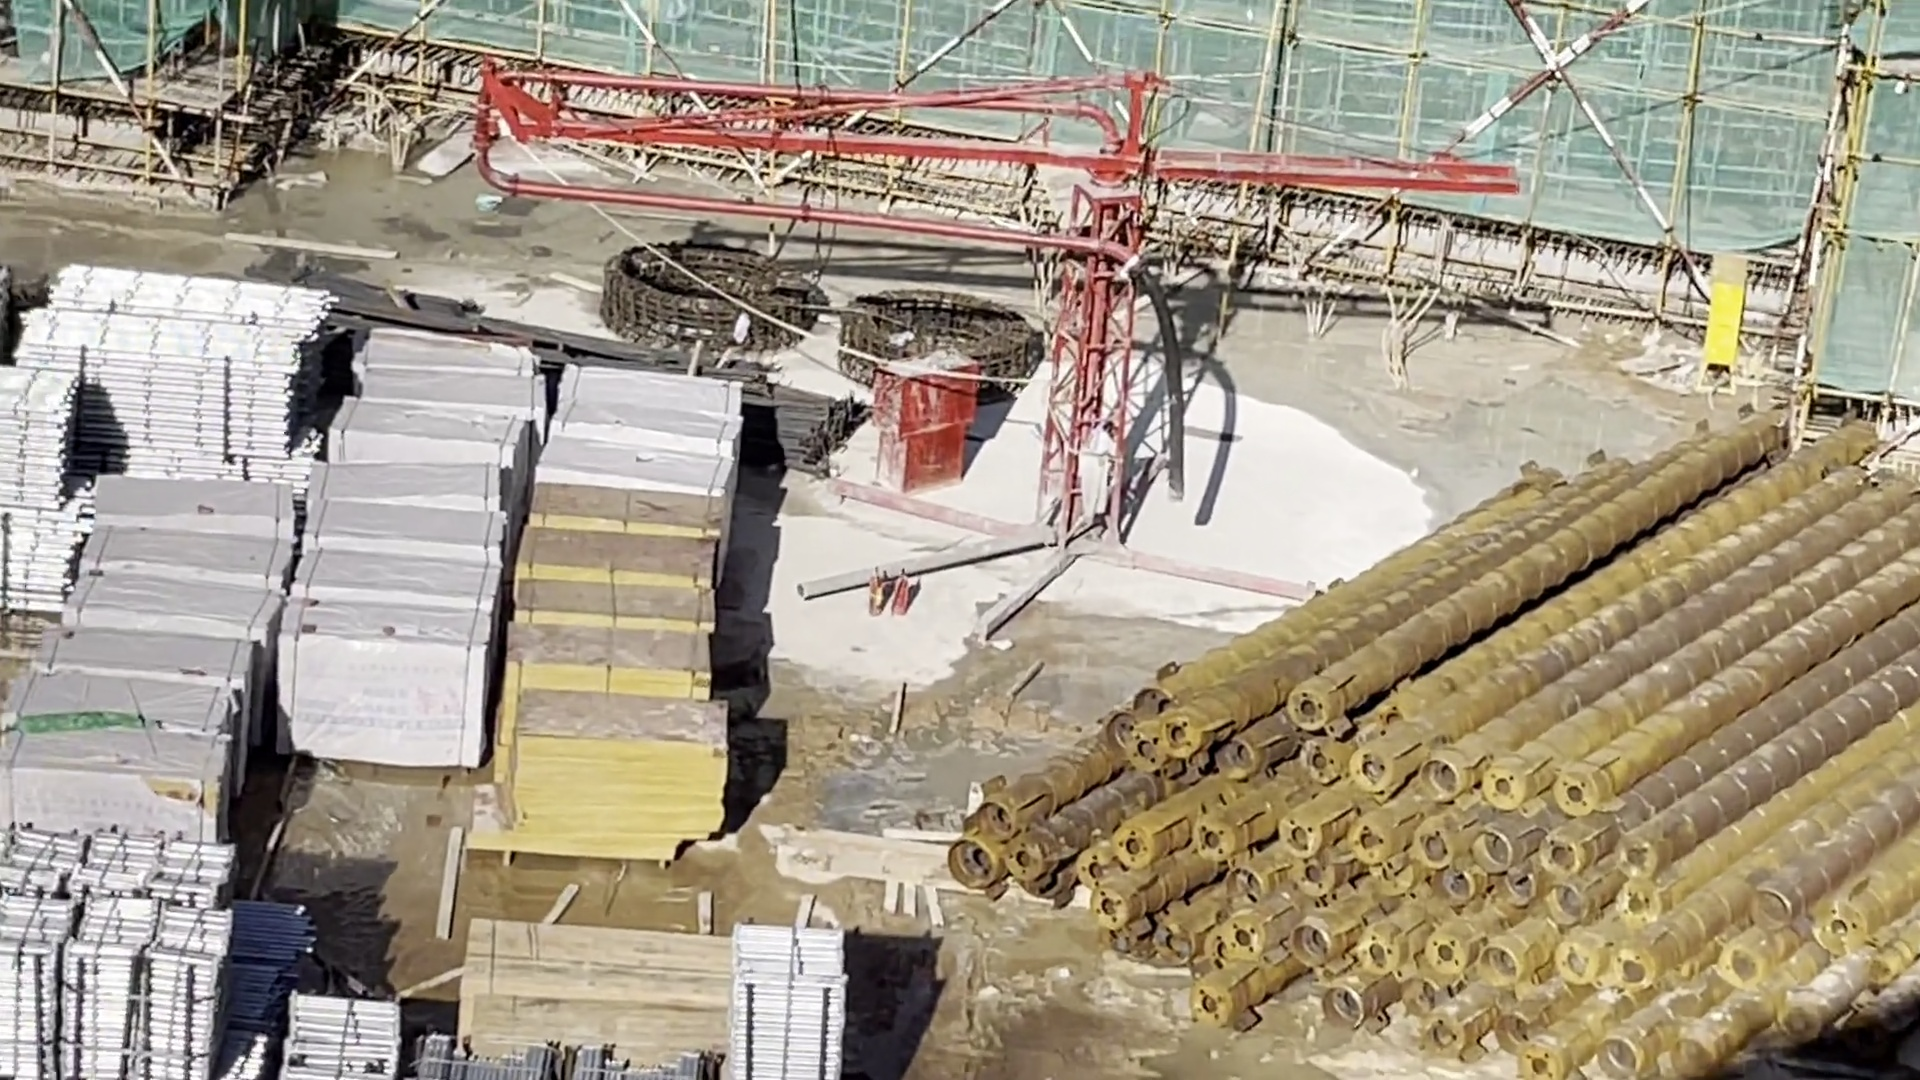board: (508, 489, 728, 855), (462, 927, 728, 1056)
ebox: (1700, 258, 1746, 371)
rebar: (353, 293, 861, 458)
scaffold: (15, 264, 315, 451), (1, 843, 244, 1073), (1, 373, 79, 611), (727, 924, 837, 1080), (282, 996, 390, 1080)
